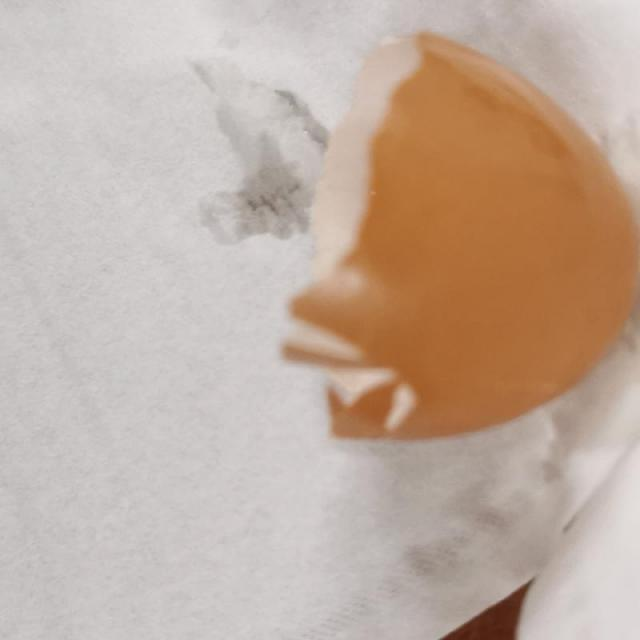egg shell: (282, 29, 640, 448)
